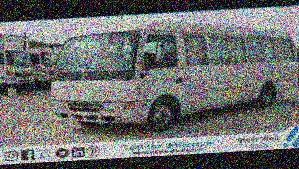bus: (44, 9, 299, 137)
